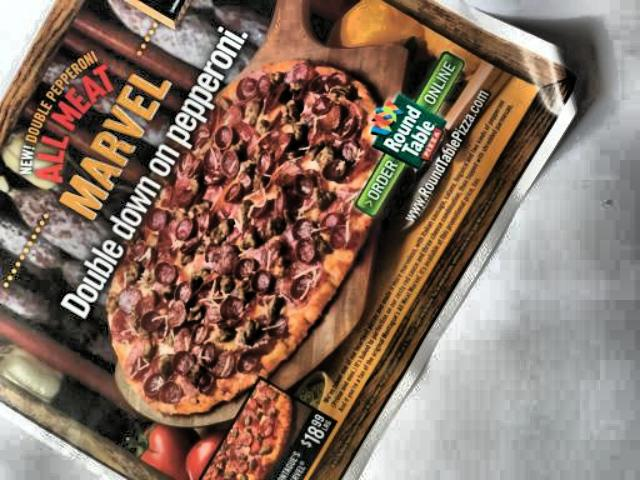Paper: (0, 0, 580, 480)
